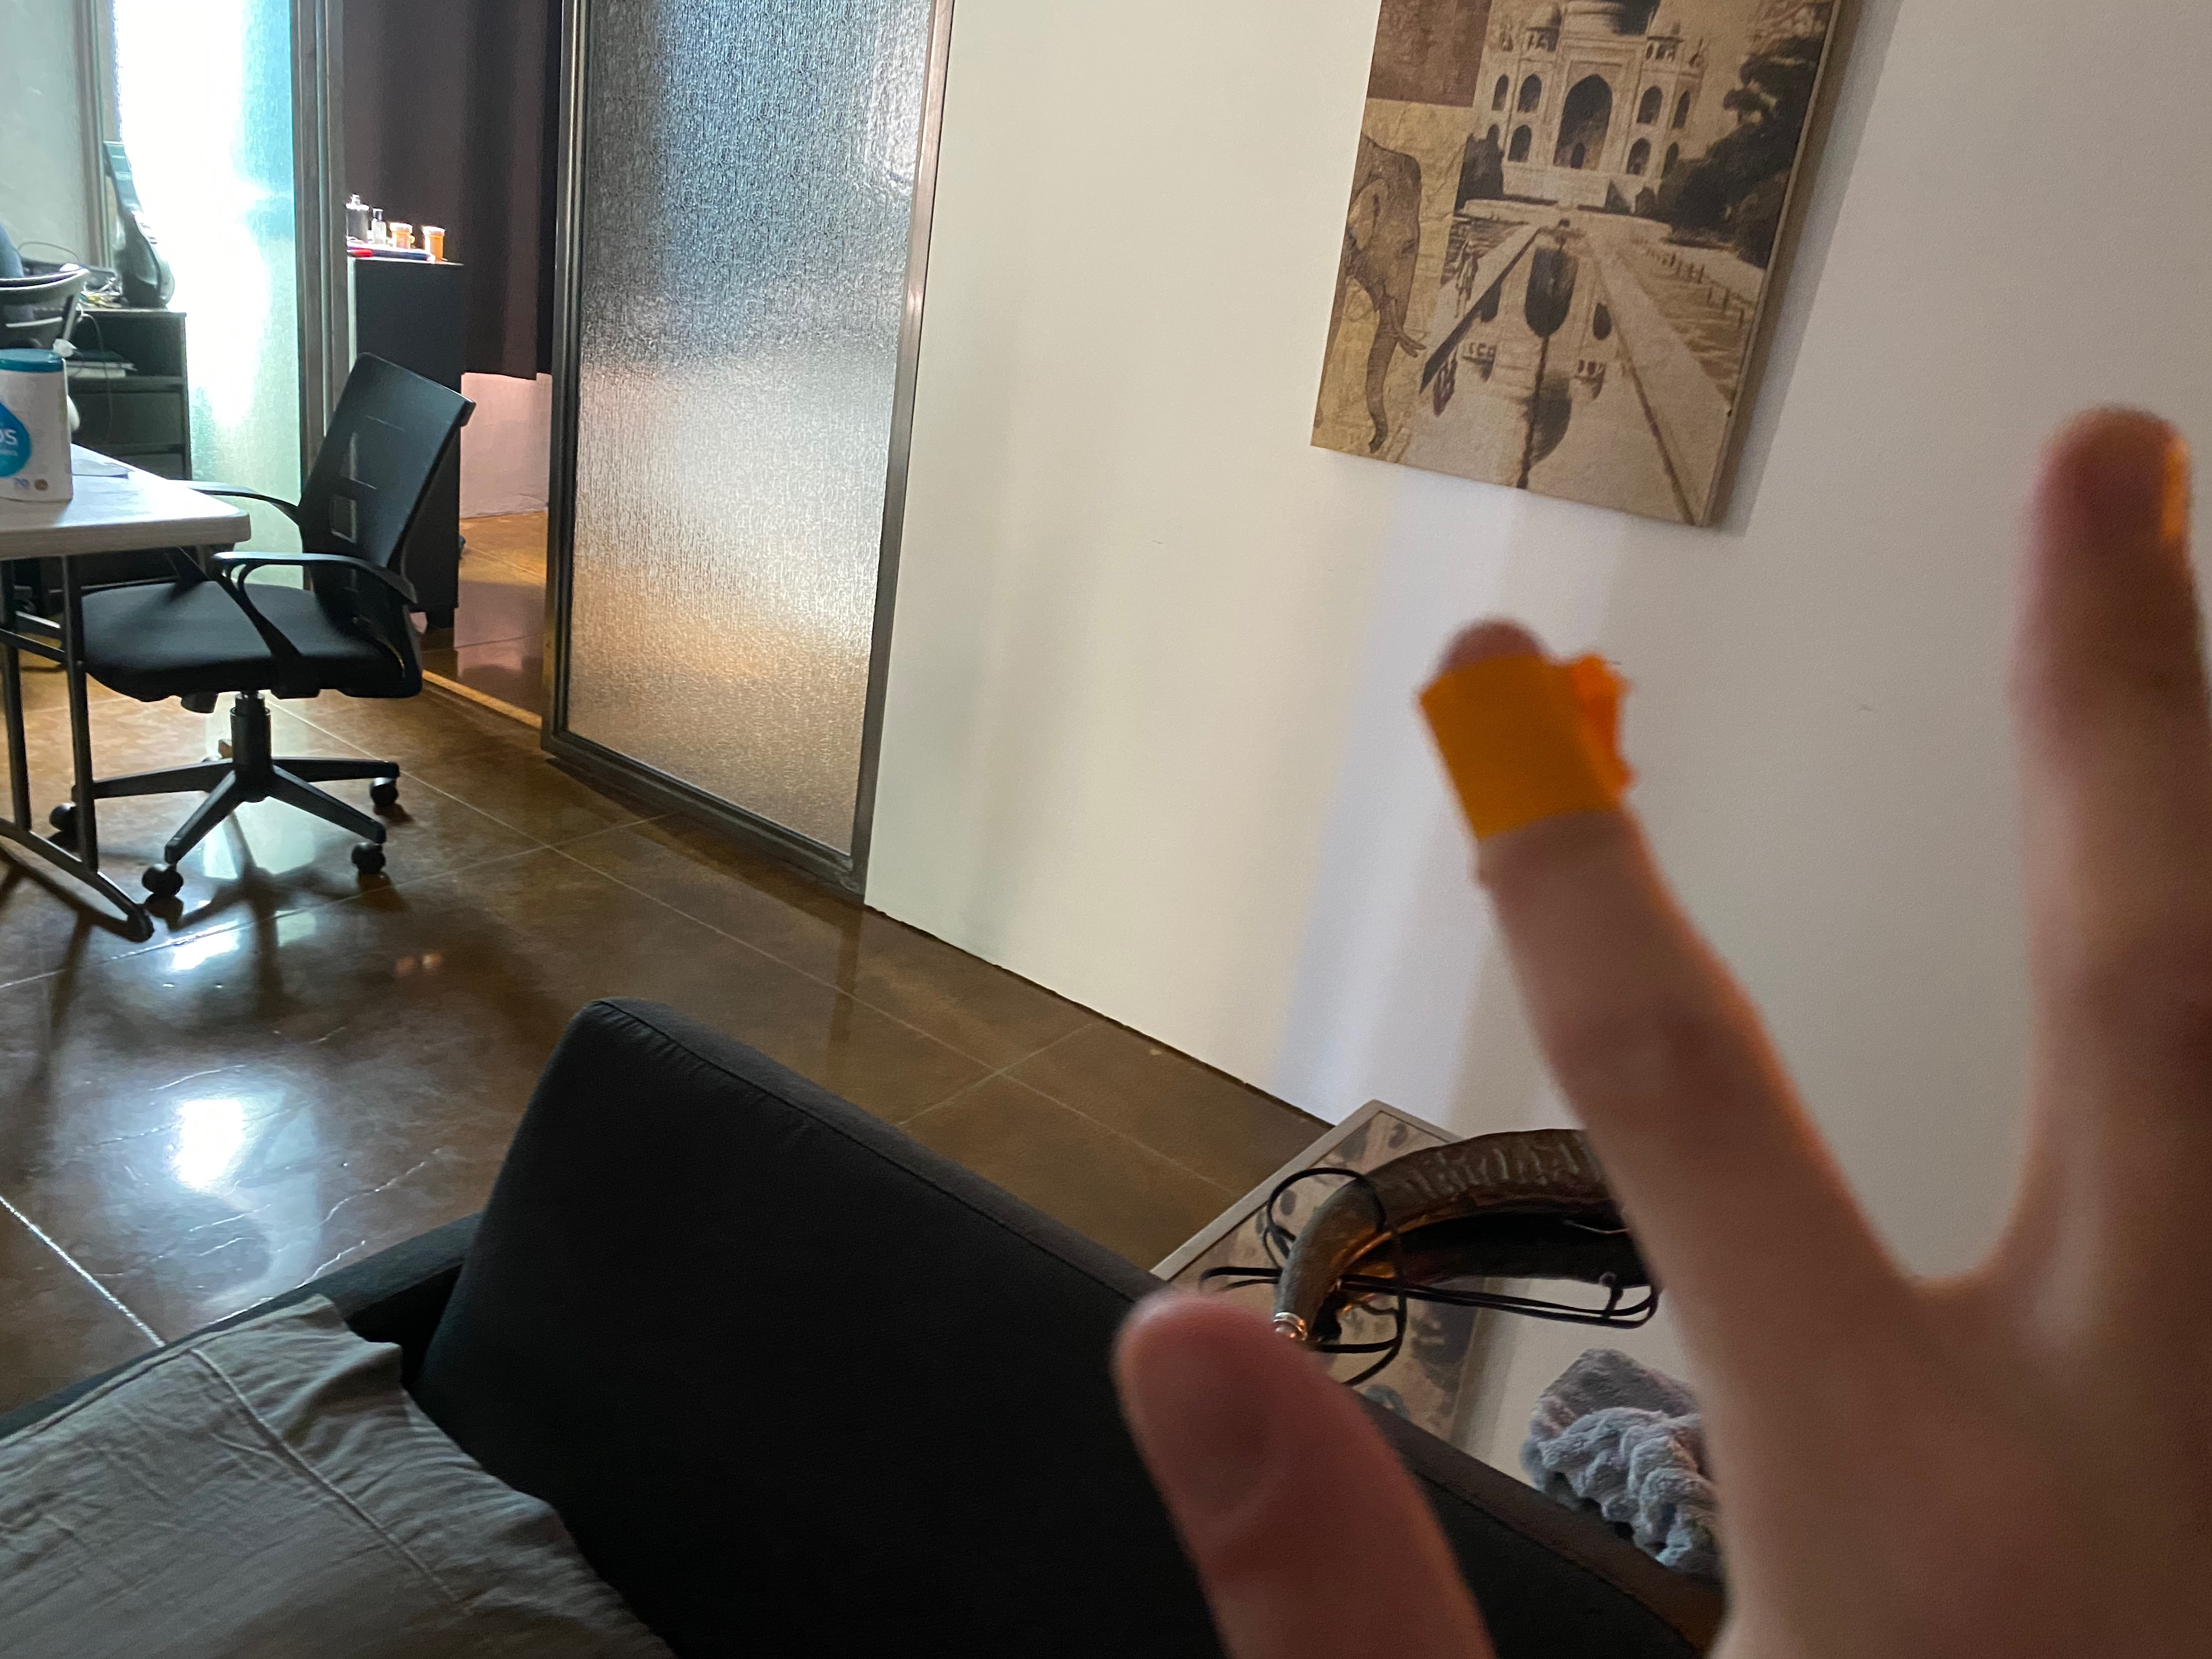fingertip: (1379, 606, 1700, 875)
